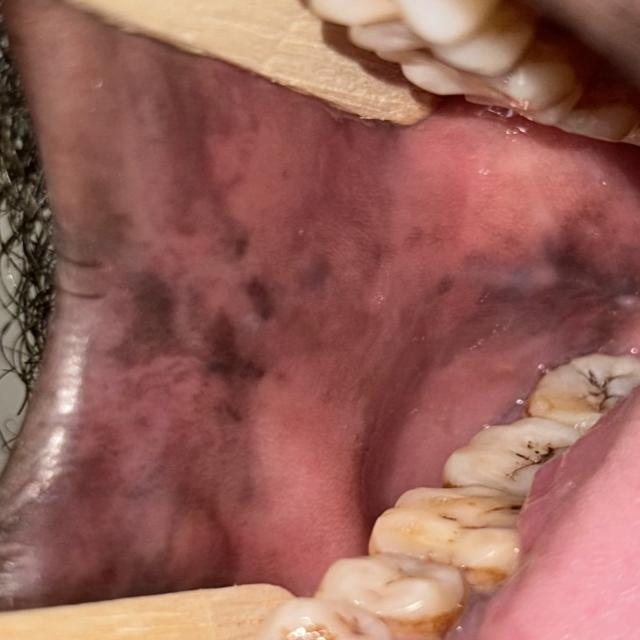leukoplakia-detection: (373, 179, 639, 399)
processing_area: (8, 23, 636, 589)
